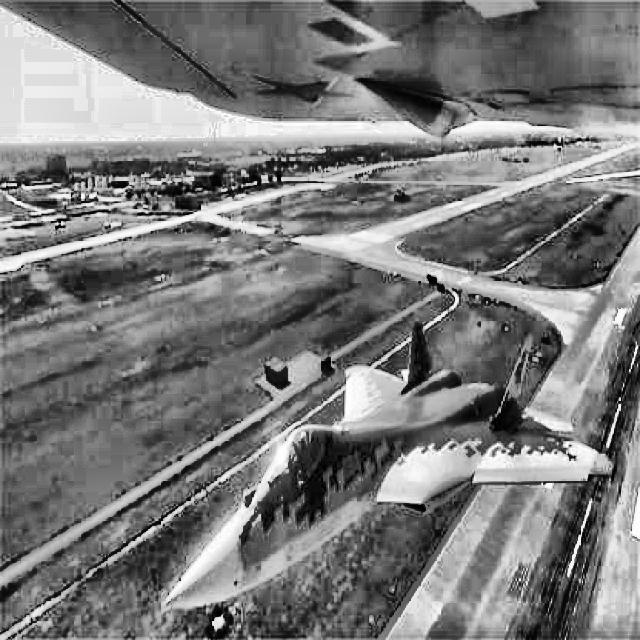Su57: (162, 310, 613, 608)
